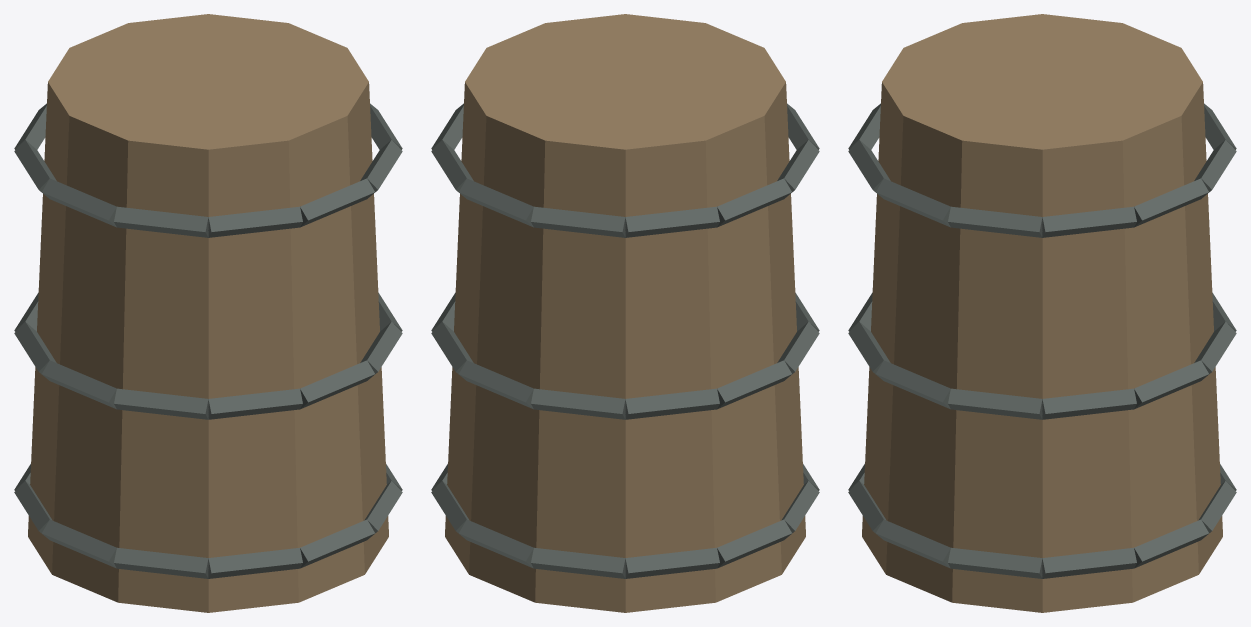
Rendered from barrel.glb.
3 renders of one model, left to right at view 1: azimuth 30°, elevation 25°; view 2: azimuth 150°, elevation 25°; view 3: azimuth 270°, elevation 25°, orthographic.
Visible parts, largest first — view 1: barrel; view 2: barrel; view 3: barrel.
Part boxes in pixels (box(x1,y1,x2,y2)): barrel: box(14, 14, 402, 612); barrel: box(431, 14, 819, 612); barrel: box(848, 14, 1236, 612).
Size of the model in its own units: 0.7744 by 1 by 0.7744.
